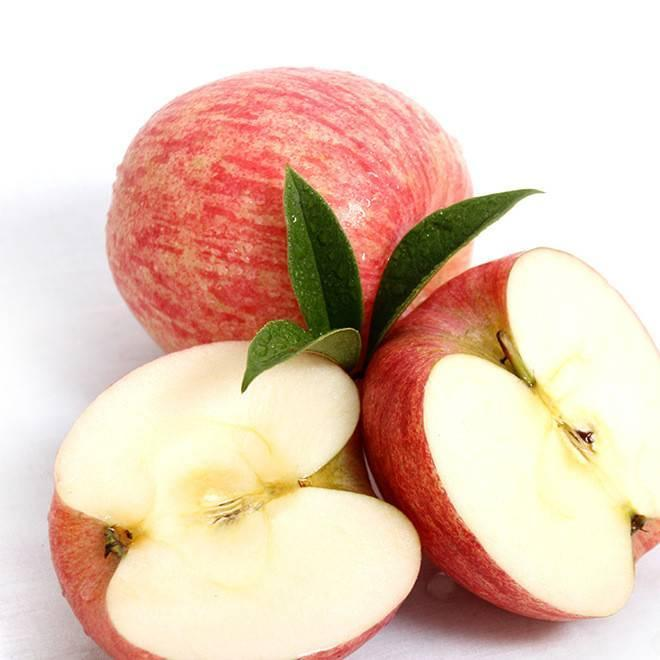apple: (109, 66, 488, 368)
